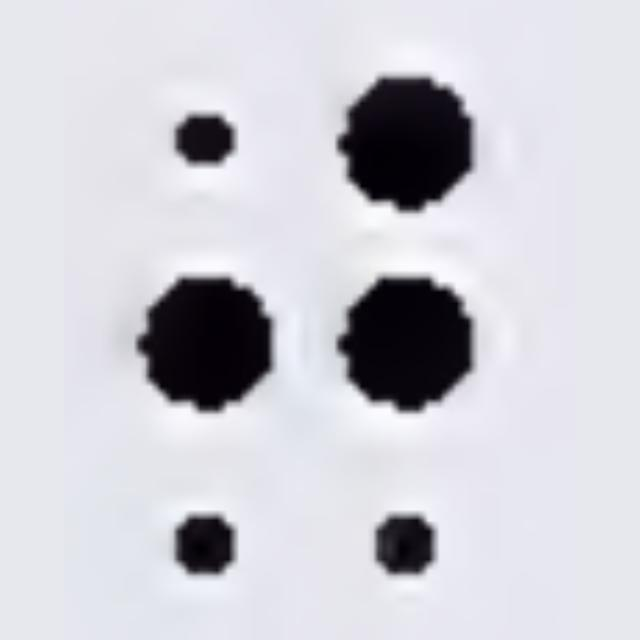letter_j: (140, 74, 473, 575)
